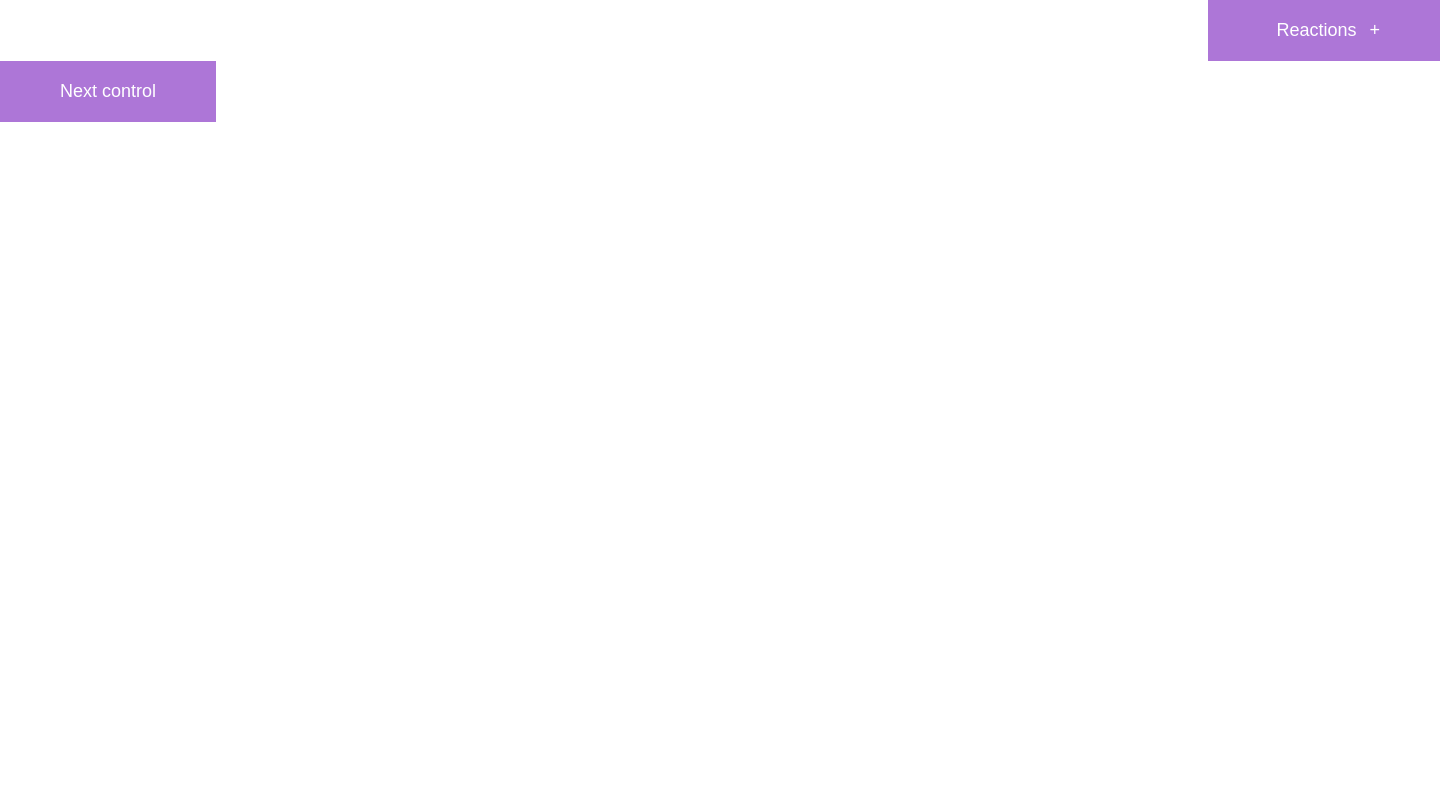
Scenario: focus movement cannot dismiss the studio before a preview click
The image size is (1440, 810).
Click the button "Reactions +".
click(1324, 30)  # box [1208, 0, 1439, 61]
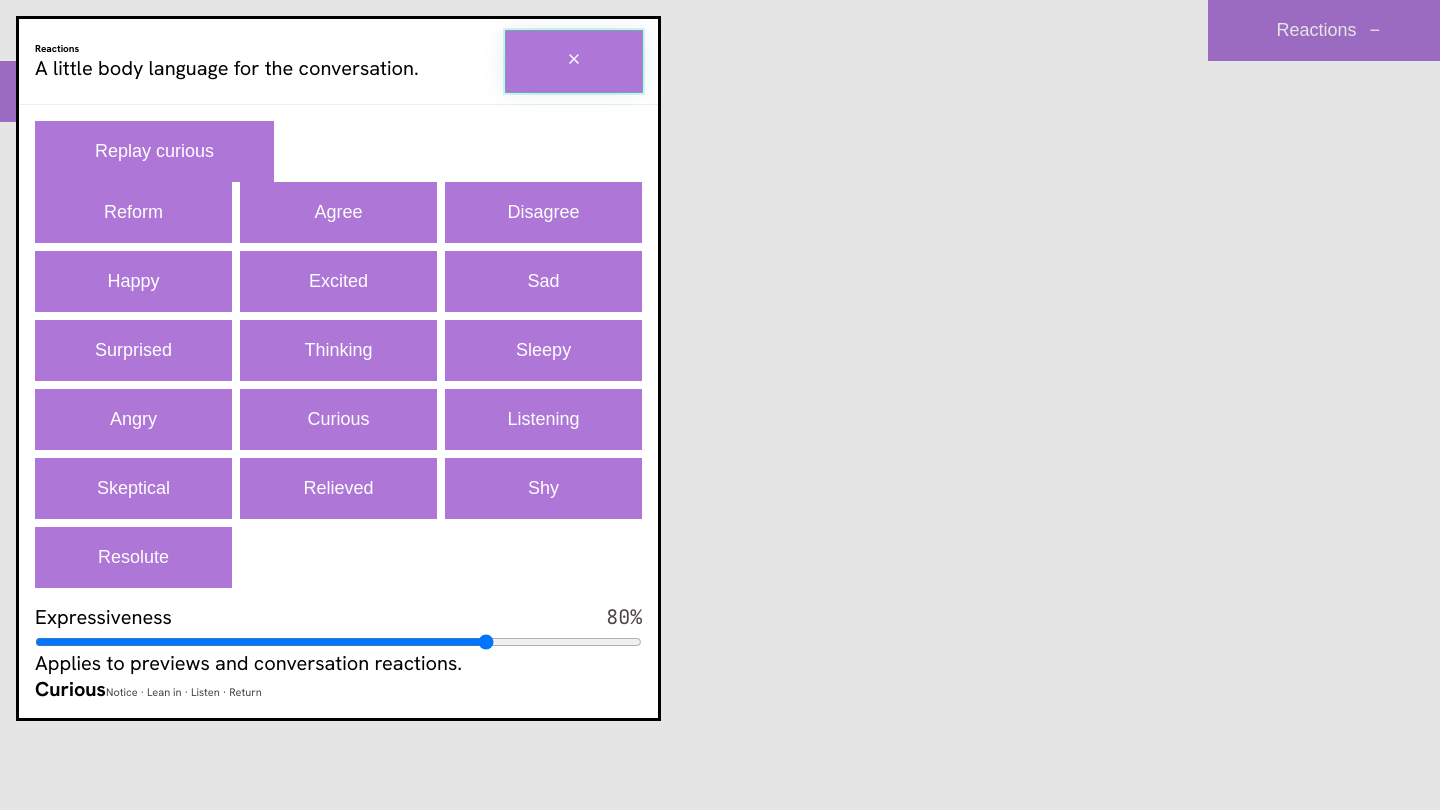
Click the button with aria-label "Preview curious reaction".
click(338, 420)  # box [240, 389, 437, 450]
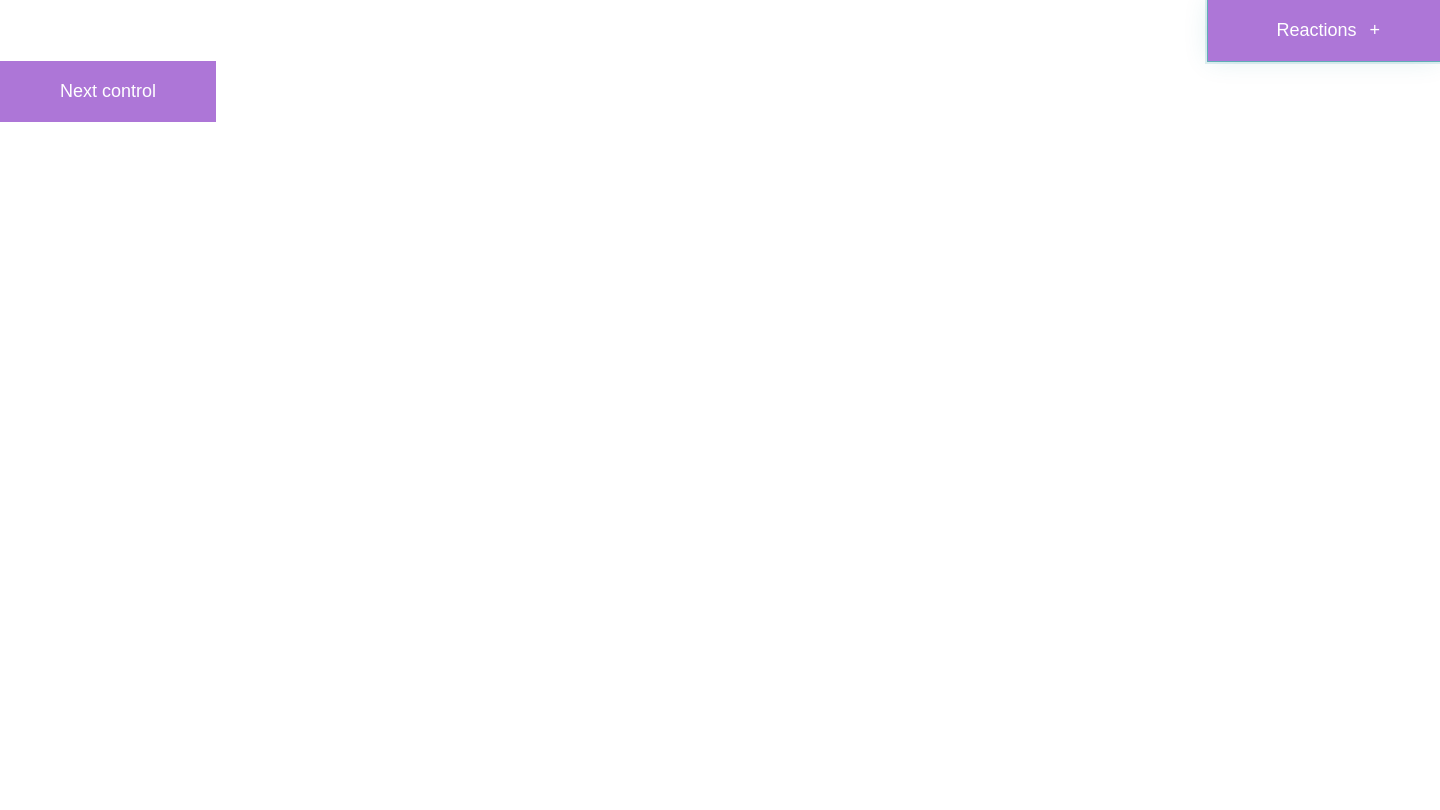
Result: the button "Reactions +" is collapsed at [1208, 0, 1439, 61]
